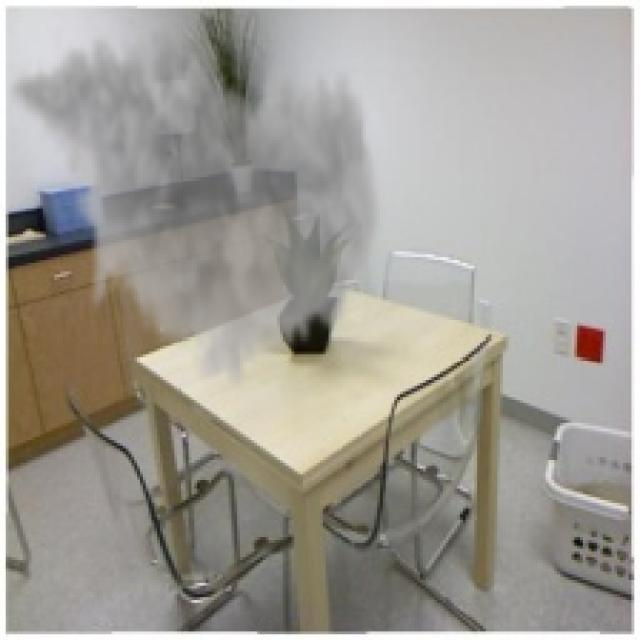smoke: (6, 6, 386, 397)
